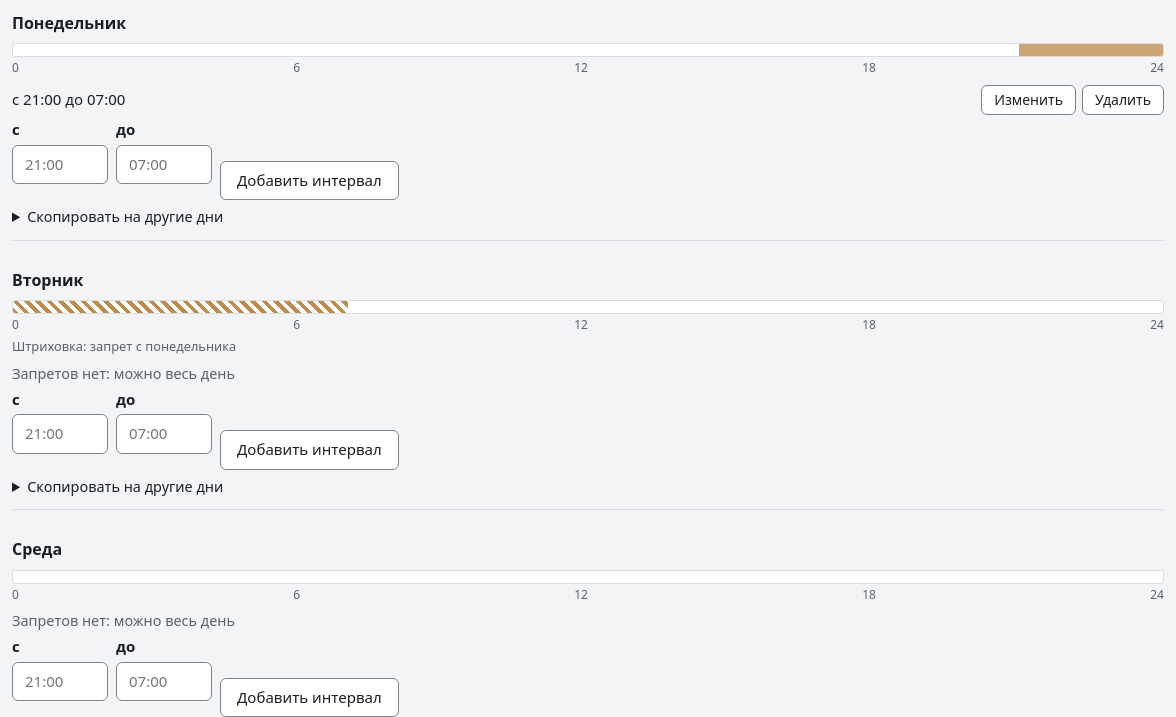
Test: ScheduleEditor › «Отмена» в правке ничего не меняет
Click the button with aria-label "Изменить интервал 21:00".
click(1029, 100)  # box [981,85,1076,115]
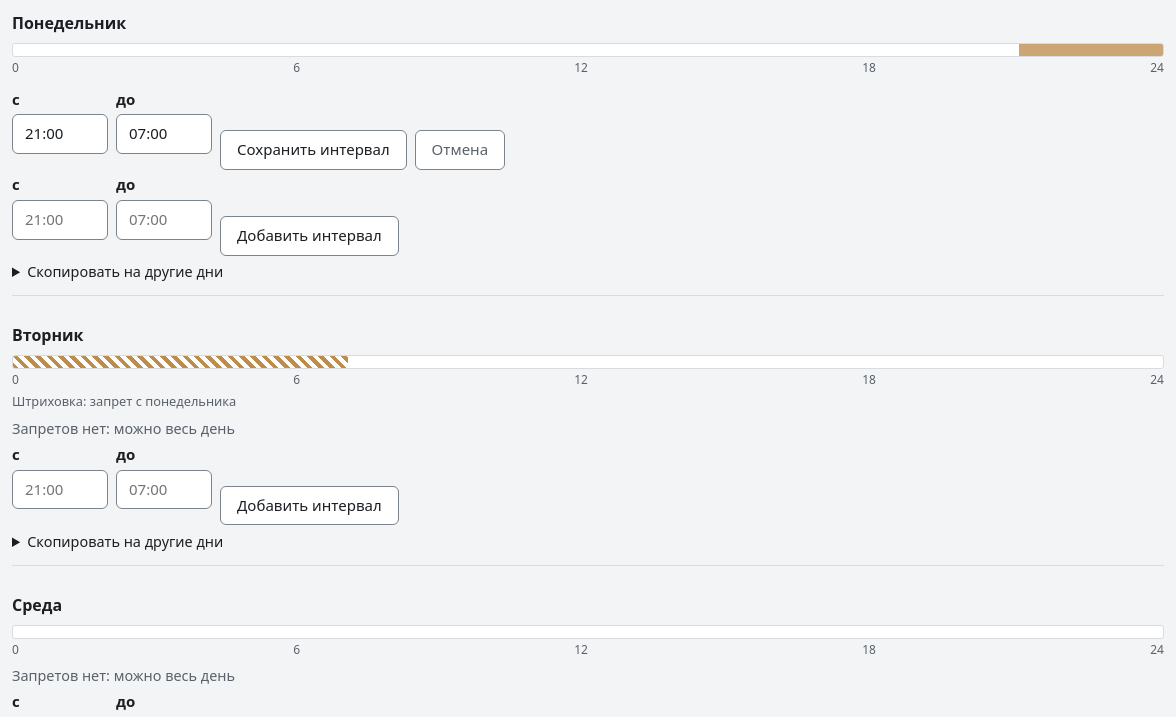
Click the button "Отмена".
click(460, 150)  # box [415,130,505,170]
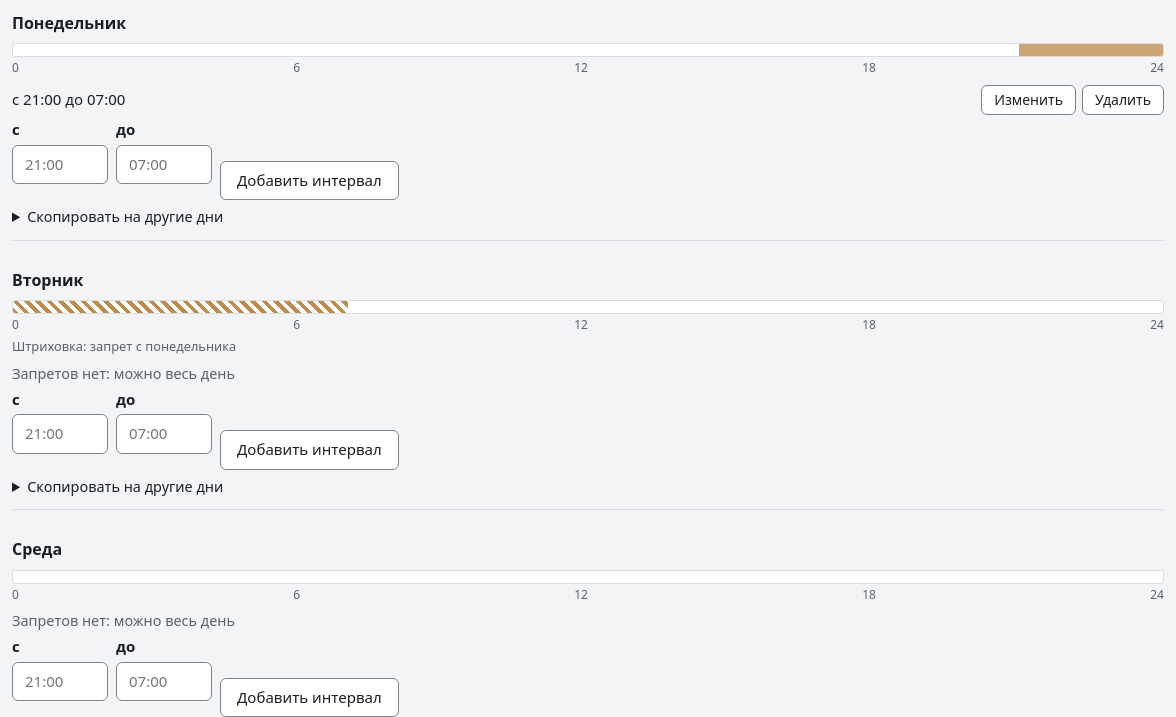
Now the text "с 21:00 до 07:00" is shown, box [12,89,125,111]
